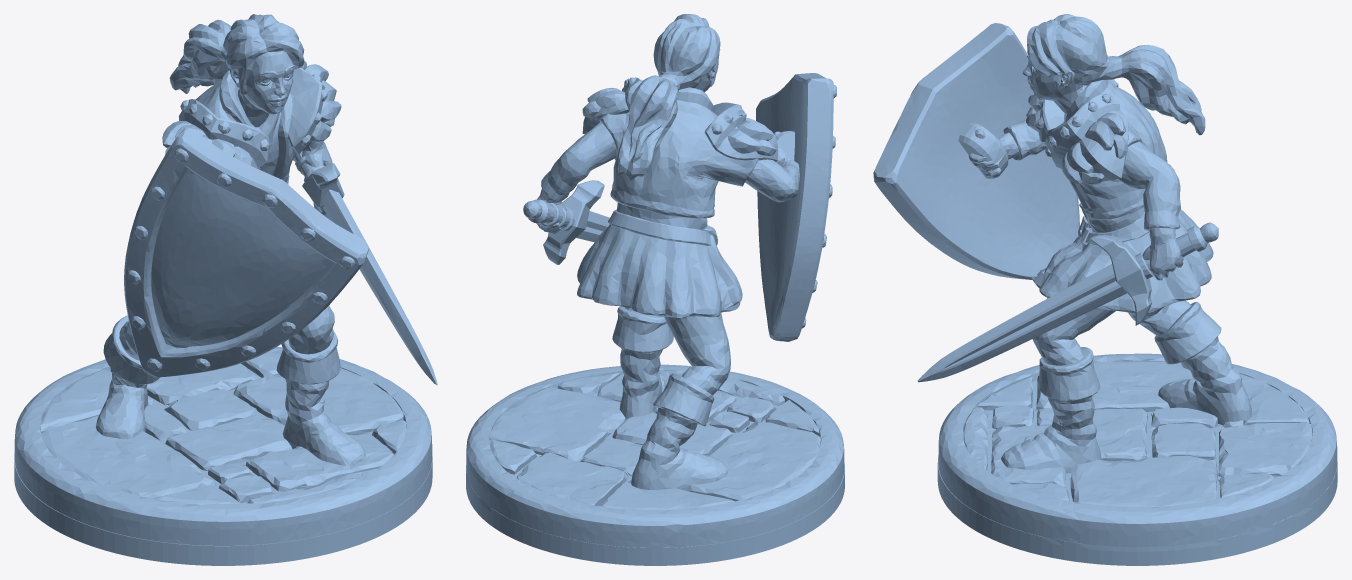
Rendered from tamara.glb.
3 views of the same model, side by side, from view 1: azimuth 30°, elevation 25°; view 2: azimuth 150°, elevation 25°; view 3: azimuth 270°, elevation 25° (orthographic). The views are drawn at different scales.
Parts seen in each view (by area): view 1: tamara; view 2: tamara; view 3: tamara.
Boxes of the visible parts, x1,y1,x2,y2 form: tamara: (14, 14, 437, 565); tamara: (466, 14, 844, 565); tamara: (873, 14, 1337, 565).
Bounding box in the file's own units: 30.4 × 38.97 × 35.29.
